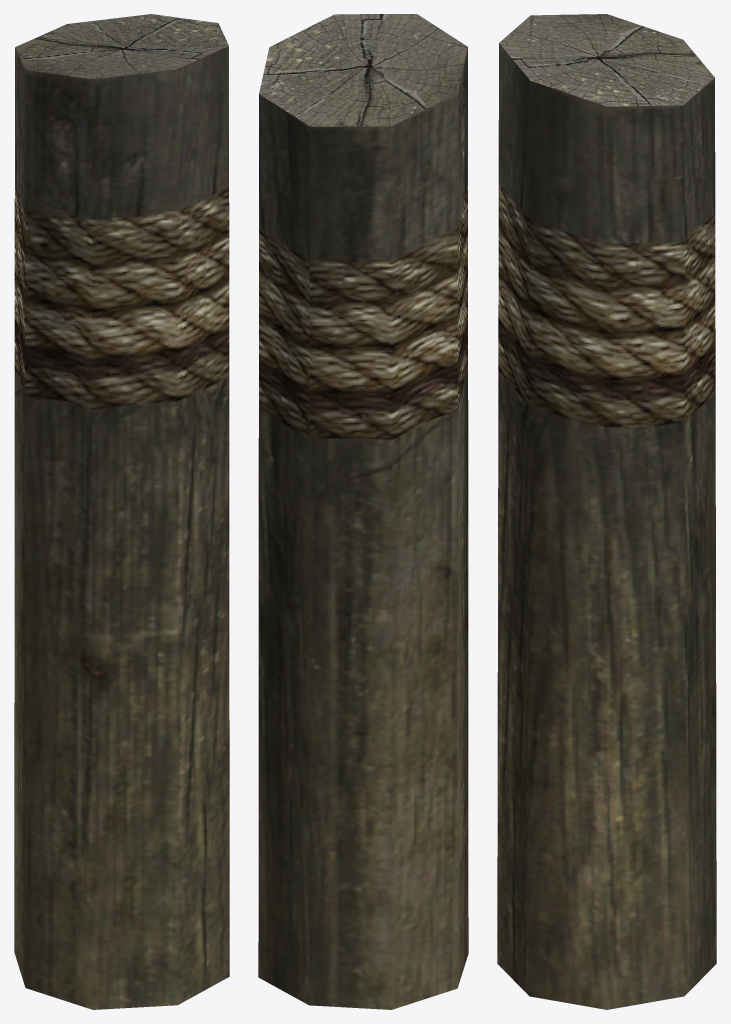
Rendered from fortms_pier_pillar00.fbx.
3 renders of one model, left to right at view 1: azimuth 30°, elevation 25°; view 2: azimuth 150°, elevation 25°; view 3: azimuth 270°, elevation 25°, orthographic. The views are drawn at different scales.
Parts seen in each view (by area): view 1: fortMS_pier_pillar00; view 2: fortMS_pier_pillar00; view 3: fortMS_pier_pillar00.
Part boxes in pixels (bbox=[...]): fortMS_pier_pillar00: bbox=[14, 14, 229, 1009]; fortMS_pier_pillar00: bbox=[258, 14, 468, 1009]; fortMS_pier_pillar00: bbox=[497, 14, 716, 1009].
Bounding box in the file's own units: 0.4759 × 2.2 × 0.4759.
